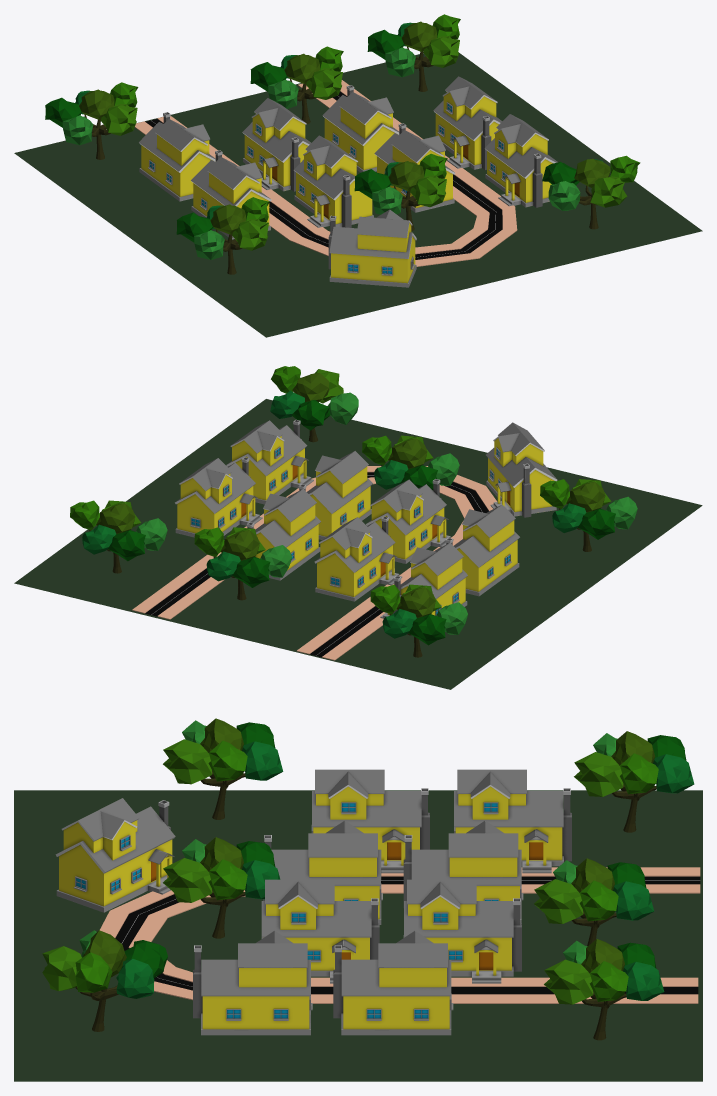
The model's file is Streed.glb.
3 views of the same model, one above another, from view 1: azimuth 30°, elevation 25°; view 2: azimuth 150°, elevation 25°; view 3: azimuth 270°, elevation 25° (orthographic). The views are drawn at different scales.
Visible parts, largest first — view 1: House Complete.006, Icosphere.004_0.005, Icosphere.004_0.004, Icosphere.004, Icosphere.004_0.001, Icosphere.004_0.003, Icosphere.004_0.002, Icosphere.002_0.005, Icosphere_0.001, Icosphere_0.002, Icosphere, Icosphere_0.003 (+19 smaller); view 2: House Complete.006, Icosphere.001_0.001, Icosphere.001_0.002, Icosphere.001, Icosphere.001_0.003, Icosphere_0.001, Icosphere_0.002, Icosphere_0.004, Icosphere, Icosphere_0.003, Icosphere_0.005, Icosphere.001_0.005 (+19 smaller); view 3: House Complete.006, Icosphere.004_0.004, Icosphere.004_0.002, Icosphere.004_0.001, Icosphere.004, Icosphere.004_0.003, Icosphere.004_0.005, Icosphere.005_0.005, Icosphere.005_0.001, Icosphere.005, Icosphere.005_0.002, Icosphere.005_0.003 (+24 smaller).
Part boxes in pixels (x1=…): House Complete.006: x1=14, y1=52, x2=702, y2=337; Icosphere.004_0.005: x1=590, y1=176, x2=627, y2=207; Icosphere.004_0.004: x1=410, y1=175, x2=446, y2=207; Icosphere.004: x1=306, y1=68, x2=342, y2=99; Icosphere.004_0.001: x1=100, y1=104, x2=137, y2=135; Icosphere.004_0.003: x1=423, y1=36, x2=459, y2=67; Icosphere.004_0.002: x1=232, y1=219, x2=268, y2=250; Icosphere.002_0.005: x1=548, y1=181, x2=580, y2=210; Icosphere_0.001: x1=79, y1=89, x2=114, y2=119; Icosphere_0.002: x1=210, y1=204, x2=245, y2=234; Icosphere: x1=284, y1=53, x2=319, y2=83; Icosphere_0.003: x1=401, y1=21, x2=436, y2=51; House Complete.006: x1=14, y1=399, x2=702, y2=689; Icosphere.001_0.001: x1=408, y1=614, x2=446, y2=645; Icosphere.001_0.002: x1=578, y1=508, x2=615, y2=539; Icosphere.001: x1=232, y1=556, x2=270, y2=587; Icosphere.001_0.003: x1=108, y1=530, x2=145, y2=561; Icosphere_0.001: x1=396, y1=587, x2=435, y2=617; Icosphere_0.002: x1=566, y1=481, x2=605, y2=512; Icosphere_0.004: x1=388, y1=438, x2=427, y2=469; Icosphere: x1=220, y1=530, x2=259, y2=560; Icosphere_0.003: x1=96, y1=503, x2=135, y2=533; Icosphere_0.005: x1=292, y1=373, x2=329, y2=401; Icosphere.001_0.005: x1=292, y1=400, x2=330, y2=430; House Complete.006: x1=14, y1=769, x2=702, y2=1081; Icosphere.004_0.004: x1=163, y1=858, x2=212, y2=902; Icosphere.004_0.002: x1=163, y1=739, x2=212, y2=784; Icosphere.004_0.001: x1=574, y1=752, x2=623, y2=796; Icosphere.004: x1=534, y1=879, x2=583, y2=923; Icosphere.004_0.003: x1=544, y1=959, x2=593, y2=1004; Icosphere.004_0.005: x1=42, y1=946, x2=81, y2=991; Icosphere.005_0.005: x1=116, y1=958, x2=154, y2=998; Icosphere.005_0.001: x1=653, y1=754, x2=694, y2=793; Icosphere.005: x1=613, y1=881, x2=654, y2=920; Icosphere.005_0.002: x1=242, y1=741, x2=283, y2=780; Icosphere.005_0.003: x1=623, y1=962, x2=664, y2=1000.
Size of the model in its own units: 68.85 by 10.46 by 68.71.
Materials: 12 (1 with a texture image).
